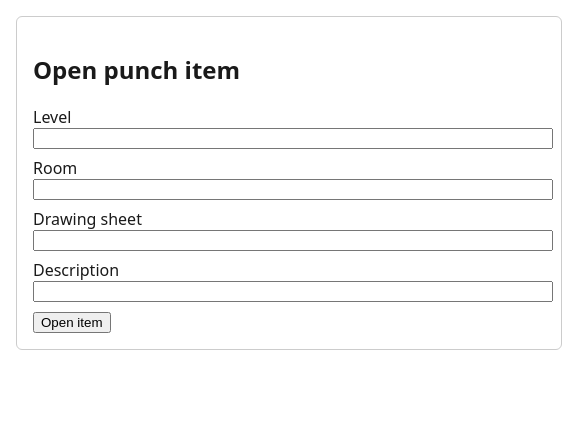
Test case: OpenPunchItemForm › submits the form and shows the routed discipline for the opened item
Type "L01" into the field labelled "Level". click: (293, 138)
box: top-left (33, 128), bottom-right (553, 149)
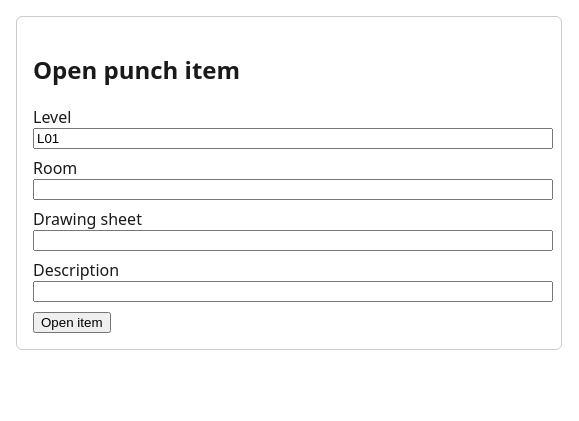
Type "R001" into the field labelled "Room". click: (293, 189)
box: top-left (33, 179), bottom-right (553, 200)
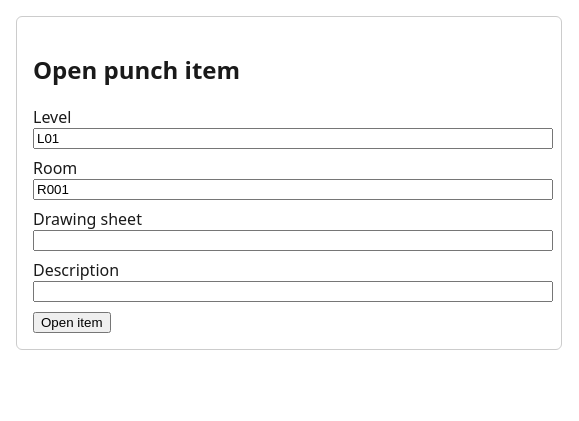
Type "A-101" into the field labelled "Drawing sheet". click: (293, 240)
box: top-left (33, 230), bottom-right (553, 251)
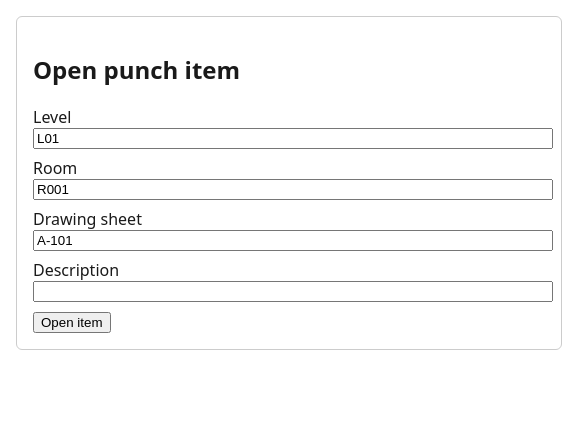
Type "duct hanger missing insulation clamp" into the field labelled "Description". click: (293, 291)
box: top-left (33, 281), bottom-right (553, 302)
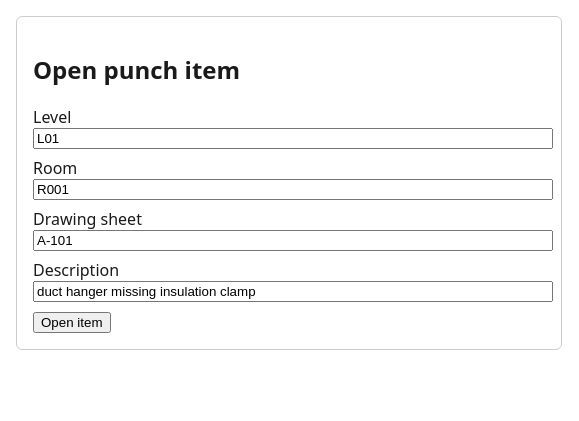
Click the button "Open item". click: (72, 322)
box: top-left (33, 312), bottom-right (110, 333)
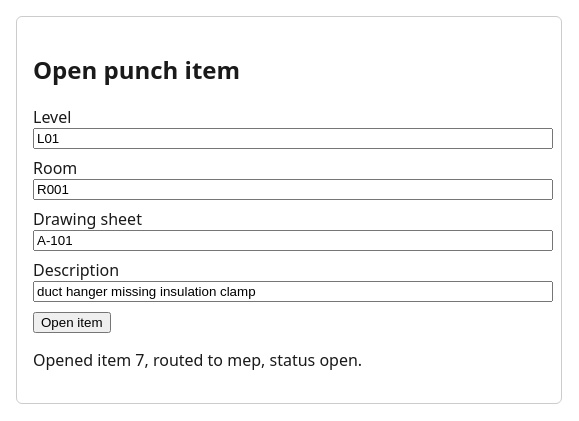
Expected: the text "Opened item 7, routed to mep, status open." is shown, top-left (33, 349), bottom-right (362, 371)
